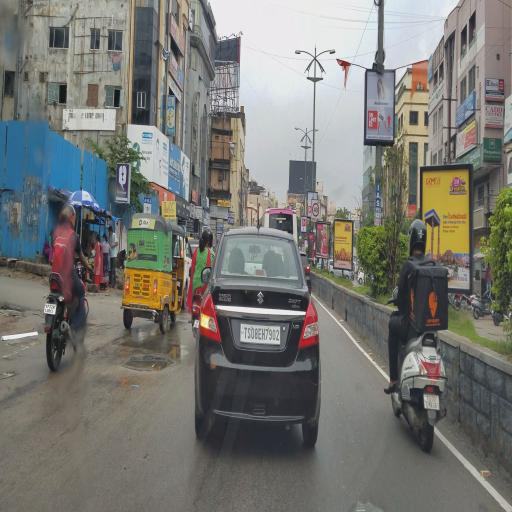street_light_0: (312, 41, 340, 79), (288, 38, 312, 76), (294, 115, 308, 143), (307, 118, 320, 146)
